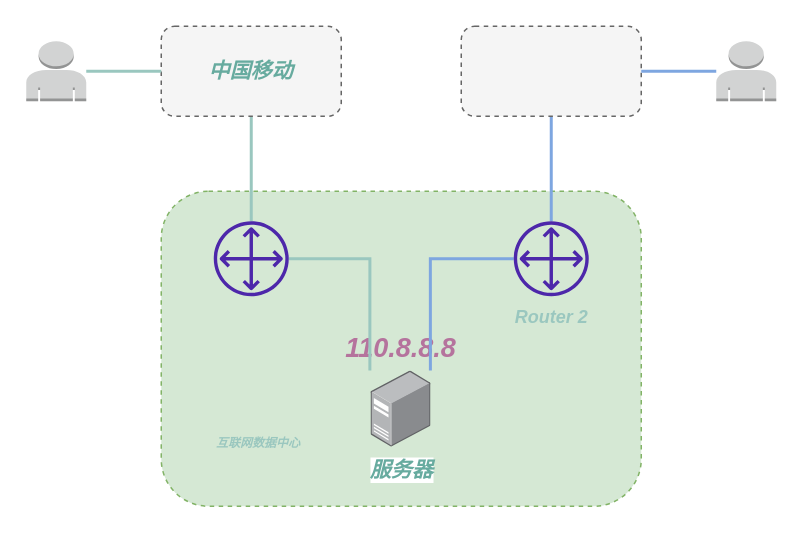
Image size: 803x533. Some labels were removed from this diagram. Each missing label, with the box of its shape:
Router 1: (213, 220, 288, 296)
中国联通: (460, 25, 641, 116)
